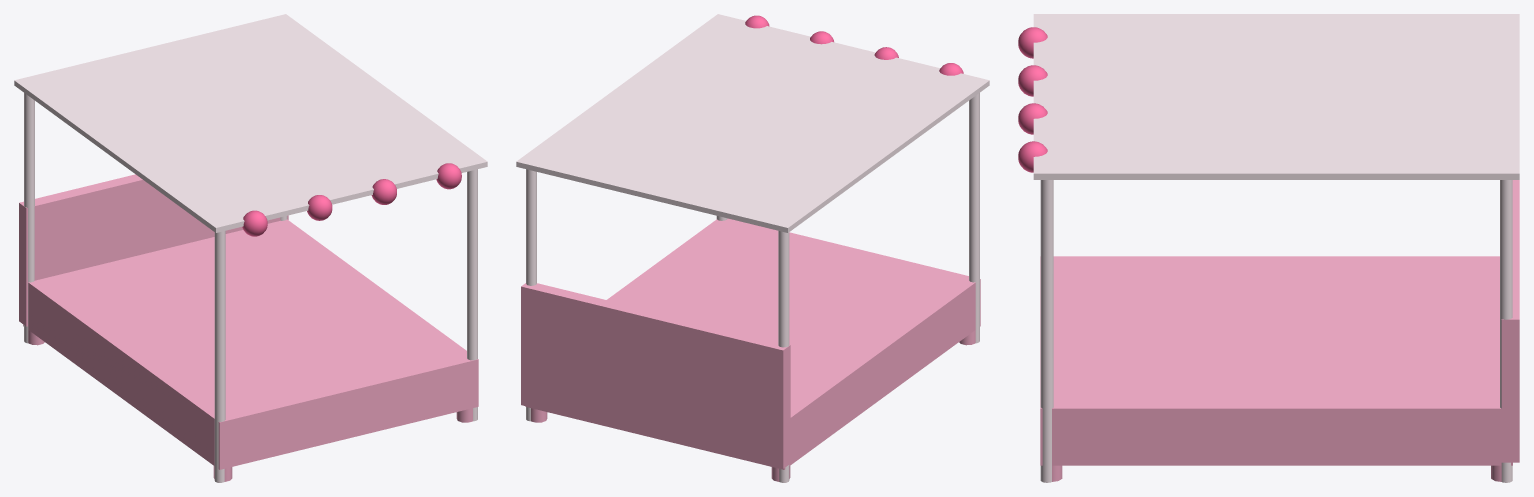
The model's file is bed_cute_0.glb.
The picture shows the model from 3 angles, left to right: view 1: azimuth 30°, elevation 25°; view 2: azimuth 150°, elevation 25°; view 3: azimuth 270°, elevation 25°; orthographic projection. The views are drawn at different scales.
Size of the model in its own units: 1.68 by 1.57 by 2.23.
